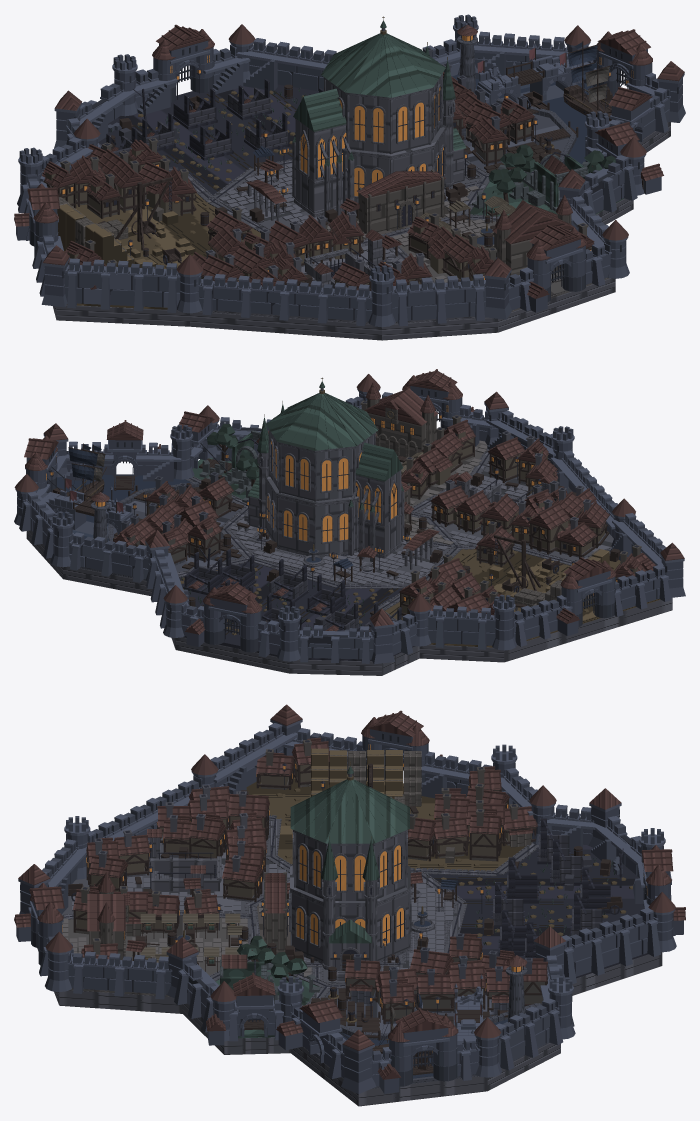
Rendered from CityMap_v6b.fbx.
3 renders of one model, top to bottom at view 1: azimuth 30°, elevation 25°; view 2: azimuth 150°, elevation 25°; view 3: azimuth 270°, elevation 25°, orthographic. The views are drawn at different scales.
Visible parts, largest first — view 1: curtain_walls_crenellations, city_rock_foundation, cathedral_octagonal_palatine_chapel, district_04_ground, cathedral_gothic_choir_buttresses, ruins_burnt_houses_broken_beams, cathedral_octagonal_copper_roof, v4_gate_masonry_depth, treasury_fortified_gallery, district_03_ground, market_town_hall, quarry_terraced_rock_cut (+63 smaller); view 2: curtain_walls_crenellations, cathedral_octagonal_palatine_chapel, city_rock_foundation, ruins_burnt_houses_broken_beams, cathedral_gothic_choir_buttresses, cathedral_octagonal_copper_roof, v4_gate_masonry_depth, market_town_hall, district_04_ground, v5_district_08_surface_relief, district_03_ground, v5_gatehouse_south (+60 smaller); view 3: curtain_walls_crenellations, cathedral_octagonal_palatine_chapel, city_rock_foundation, ruins_burnt_houses_broken_beams, district_04_ground, cathedral_octagonal_copper_roof, quarry_terraced_rock_cut, v4_gate_masonry_depth, district_03_ground, underground_stairwell_and_iron_grille, market_town_hall, v5_gatehouse_west (+60 smaller).
Part boxes in pixels (bbox=[...]): curtain_walls_crenellations: bbox=[17, 14, 685, 327]; city_rock_foundation: bbox=[53, 122, 670, 340]; cathedral_octagonal_palatine_chapel: bbox=[323, 73, 446, 211]; district_04_ground: bbox=[98, 84, 318, 195]; cathedral_gothic_choir_buttresses: bbox=[292, 88, 354, 220]; ruins_burnt_houses_broken_beams: bbox=[98, 79, 323, 160]; cathedral_octagonal_copper_roof: bbox=[321, 16, 445, 97]; v4_gate_masonry_depth: bbox=[29, 47, 652, 301]; treasury_fortified_gallery: bbox=[357, 169, 445, 233]; district_03_ground: bbox=[64, 193, 260, 309]; market_town_hall: bbox=[492, 195, 575, 275]; quarry_terraced_rock_cut: bbox=[57, 197, 195, 268]; curtain_walls_crenellations: bbox=[14, 374, 685, 664]; cathedral_octagonal_palatine_chapel: bbox=[265, 429, 375, 557]; city_rock_foundation: bbox=[26, 530, 672, 675]; ruins_burnt_houses_broken_beams: bbox=[183, 549, 401, 631]; cathedral_gothic_choir_buttresses: bbox=[348, 442, 404, 561]; cathedral_octagonal_copper_roof: bbox=[266, 377, 378, 450]; v4_gate_masonry_depth: bbox=[26, 397, 615, 652]; market_town_hall: bbox=[364, 381, 438, 457]; district_04_ground: bbox=[179, 562, 415, 661]; v5_district_08_surface_relief: bbox=[229, 520, 447, 584]; district_03_ground: bbox=[384, 548, 660, 647]; v5_gatehouse_south: bbox=[185, 582, 257, 646]; curtain_walls_crenellations: bbox=[18, 704, 676, 1094]; cathedral_octagonal_palatine_chapel: bbox=[289, 829, 411, 963]; city_rock_foundation: bbox=[37, 948, 662, 1106]; ruins_burnt_houses_broken_beams: bbox=[491, 818, 612, 959]; district_04_ground: bbox=[428, 844, 648, 978]; cathedral_octagonal_copper_roof: bbox=[290, 761, 409, 843]; quarry_terraced_rock_cut: bbox=[311, 748, 421, 806]; v4_gate_masonry_depth: bbox=[31, 735, 671, 1086]; district_03_ground: bbox=[246, 774, 526, 871]; underground_stairwell_and_iron_grille: bbox=[147, 829, 248, 891]; market_town_hall: bbox=[87, 872, 129, 959]; v5_gatehouse_west: bbox=[377, 1007, 450, 1093].
Size of what is drawn, in the model's own units: 62.9 by 17.83 by 52.41.
61 materials, 49 textured.
